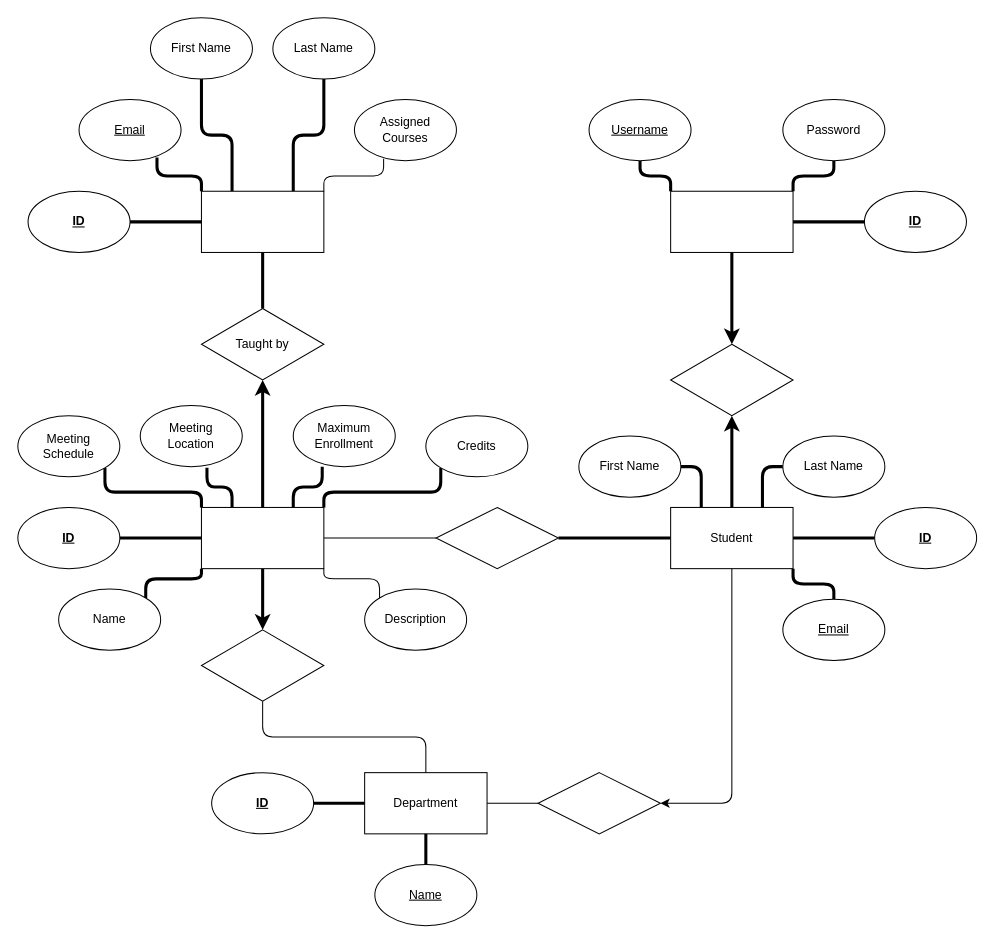
This 995x944 diagram has some shape labels left out. Here are the shapes that lost their labels. From the top down, the box of each, then its label:
(200, 190, 324, 252): Instructor
(670, 190, 793, 252): User Account
(670, 343, 793, 416): Has a
(200, 506, 324, 569): Course
(435, 506, 558, 569): Enrolls in
(200, 629, 324, 701): Hosted by
(537, 772, 660, 834): Majors in
